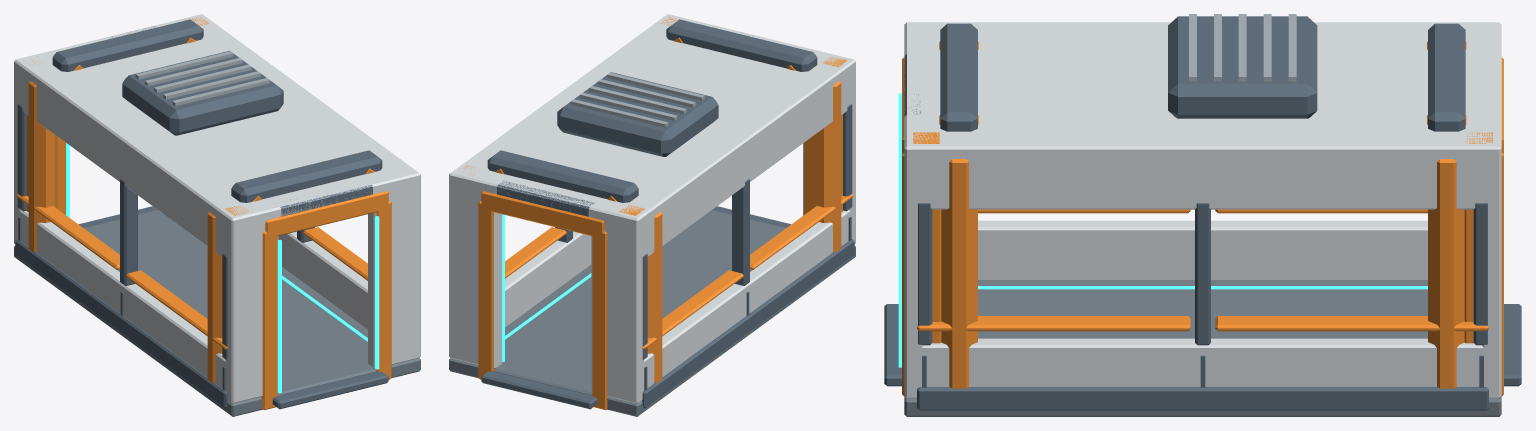
File: room-CorridorRoom.fbx
3 views of the same model, side by side, from view 1: azimuth 30°, elevation 25°; view 2: azimuth 150°, elevation 25°; view 3: azimuth 270°, elevation 25° (orthographic). The views are drawn at different scales.
Parts seen in each view (by area): view 1: room-CorridorRoom_Roof.001, room-CorridorRoom_Deck.001, room-CorridorRoom_Window sill.002, room-CorridorRoom_Window head.002, room-CorridorRoom_End panel.004, room-CorridorRoom_End panel.005, room-CorridorRoom_Roof service pod, room-CorridorRoom_Window sill.003, room-CorridorRoom_Lower armour band, room-CorridorRoom_Roof cross brace, room-CorridorRoom_Roof cross brace.001, room-CorridorRoom_Armoured corner post.002 (+22 smaller); view 2: room-CorridorRoom_Roof.001, room-CorridorRoom_Deck.001, room-CorridorRoom_Window sill.002, room-CorridorRoom_Window head.002, room-CorridorRoom_End panel.006, room-CorridorRoom_End panel.007, room-CorridorRoom_Roof service pod, room-CorridorRoom_Window sill.003, room-CorridorRoom_Lower armour band, room-CorridorRoom_Roof cross brace.001, room-CorridorRoom_Roof cross brace, room-CorridorRoom_Armoured corner post (+21 smaller); view 3: room-CorridorRoom_Roof.001, room-CorridorRoom_Window head.003, room-CorridorRoom_Window sill.002, room-CorridorRoom_Window sill.003, room-CorridorRoom_Deck.001, room-CorridorRoom_Lower armour band.001, room-CorridorRoom_Roof service pod, room-CorridorRoom_Armoured corner post.001, room-CorridorRoom_Armoured corner post.003, room-CorridorRoom_Roof cross brace, room-CorridorRoom_Roof cross brace.001, room-CorridorRoom_Window lower trim.007 (+19 smaller).
Part boxes in pixels (bbox=[...]): room-CorridorRoom_Roof.001: bbox=[14, 14, 420, 227]; room-CorridorRoom_Deck.001: bbox=[14, 210, 420, 416]; room-CorridorRoom_Window sill.002: bbox=[14, 209, 243, 401]; room-CorridorRoom_Window head.002: bbox=[15, 73, 242, 262]; room-CorridorRoom_End panel.004: bbox=[225, 216, 278, 403]; room-CorridorRoom_End panel.005: bbox=[368, 181, 420, 368]; room-CorridorRoom_Roof service pod: bbox=[122, 50, 283, 135]; room-CorridorRoom_Window sill.003: bbox=[278, 231, 420, 357]; room-CorridorRoom_Lower armour band: bbox=[15, 239, 227, 407]; room-CorridorRoom_Roof cross brace: bbox=[231, 150, 382, 202]; room-CorridorRoom_Roof cross brace.001: bbox=[52, 19, 203, 71]; room-CorridorRoom_Armoured corner post.002: bbox=[28, 81, 57, 252]; room-CorridorRoom_Roof.001: bbox=[449, 14, 855, 227]; room-CorridorRoom_Deck.001: bbox=[449, 210, 855, 416]; room-CorridorRoom_Window sill.002: bbox=[626, 210, 850, 401]; room-CorridorRoom_Window head.002: bbox=[627, 69, 855, 256]; room-CorridorRoom_End panel.006: bbox=[591, 216, 644, 403]; room-CorridorRoom_End panel.007: bbox=[449, 181, 501, 368]; room-CorridorRoom_Roof service pod: bbox=[557, 72, 718, 156]; room-CorridorRoom_Window sill.003: bbox=[505, 231, 591, 327]; room-CorridorRoom_Lower armour band: bbox=[642, 239, 854, 407]; room-CorridorRoom_Roof cross brace.001: bbox=[487, 150, 638, 202]; room-CorridorRoom_Roof cross brace: bbox=[666, 19, 817, 71]; room-CorridorRoom_Armoured corner post: bbox=[812, 81, 841, 252]; room-CorridorRoom_Roof.001: bbox=[904, 22, 1501, 159]; room-CorridorRoom_Window head.003: bbox=[904, 158, 1499, 209]; room-CorridorRoom_Window sill.002: bbox=[978, 220, 1427, 281]; room-CorridorRoom_Window sill.003: bbox=[907, 338, 1498, 398]; room-CorridorRoom_Deck.001: bbox=[904, 281, 1501, 416]; room-CorridorRoom_Lower armour band.001: bbox=[917, 387, 1488, 410]; room-CorridorRoom_Roof service pod: bbox=[1168, 16, 1317, 118]; room-CorridorRoom_Armoured corner post.001: bbox=[941, 159, 977, 388]; room-CorridorRoom_Armoured corner post.003: bbox=[1428, 159, 1464, 388]; room-CorridorRoom_Roof cross brace: bbox=[940, 23, 977, 131]; room-CorridorRoom_Roof cross brace.001: bbox=[1428, 23, 1465, 131]; room-CorridorRoom_Window lower trim.007: bbox=[1215, 316, 1488, 331].
Bounding box in the file's own units: 310 × 343 × 640.
